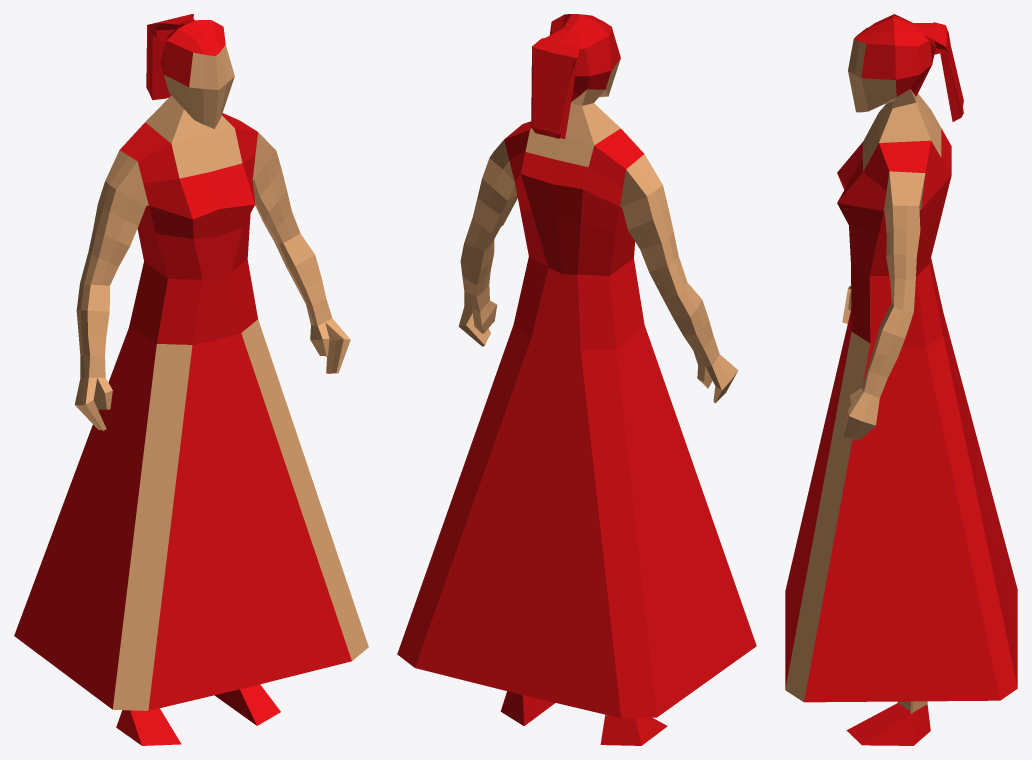
Rendered from mom.fbx.
3 views of the same model, side by side, from view 1: azimuth 30°, elevation 25°; view 2: azimuth 150°, elevation 25°; view 3: azimuth 270°, elevation 25° (orthographic).
Visible parts, largest first — view 1: Cube.001; view 2: Cube.001; view 3: Cube.001.
Boxes of the visible parts, <box> form: Cube.001: <box>14,14,368,745</box>; Cube.001: <box>397,14,756,745</box>; Cube.001: <box>785,14,1017,745</box>.
Size of the model in its own units: 185 by 466 by 141.
